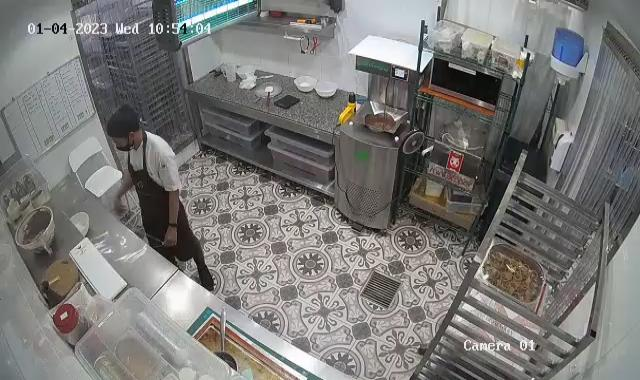no_hairnet: (106, 103, 142, 140)
